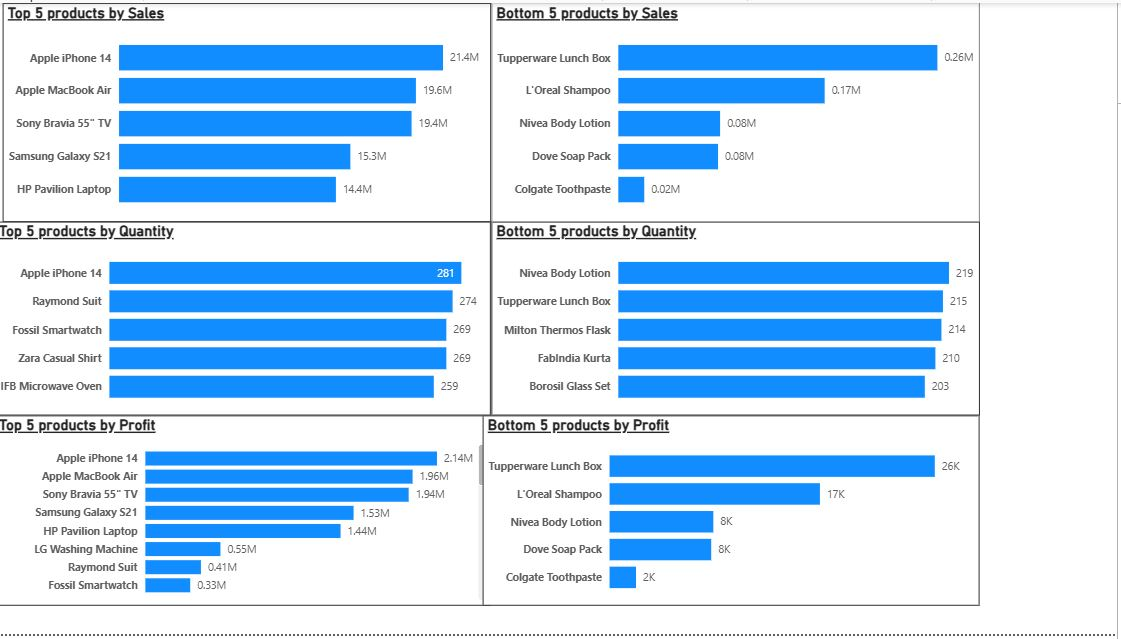

The page's visual inventory and layout, read from the dashboard file:
{"tool":"powerbi","page":{"name":"Top Bottom Analysis","canvas":[1280,720],"ordinal":1},"visuals":[{"type":"barChart","title":"Top 5 products by Sales","fields":{"Category":["Dim Product.Product Name"],"Y":["Sum(Fact Table.Net)"]},"box":[9.6,0,557.1,249.7],"z":0},{"type":"barChart","title":"Bottom 5 products by Sales","fields":{"Category":["Dim Product.Product Name"],"Y":["Sum(Fact Table.Net)"]},"box":[566.7,0,557.1,249.7],"z":1},{"type":"barChart","title":"Top 5 products by Profit","fields":{"Category":["Dim Product.Product Name"],"Y":["Sum(Fact Table.Profit)"]},"box":[0,470.7,566.7,216.8],"z":2},{"type":"barChart","title":"Bottom 5 products by Quantity","fields":{"Category":["Dim Product.Product Name"],"Y":["Sum(Fact Table.Units Sold)"]},"box":[566.7,249.7,557.1,220.9],"z":3},{"type":"barChart","title":"Top 5 products by Quantity","fields":{"Category":["Dim Product.Product Name"],"Y":["Sum(Fact Table.Units Sold)"]},"box":[0,249.7,566.7,220.9],"z":4},{"type":"barChart","title":"Bottom 5 products by Profit","fields":{"Category":["Dim Product.Product Name"],"Y":["Sum(Fact Table.Profit)"]},"box":[557.1,470.7,566.7,216.8],"z":5}]}

Visuals, with their boxes in screenshot pixels (x1, y1, x2, y2), scaled from the page's 1280x720 canvas onto the 1121x639 screenshot:
"Top 5 products by Sales" barChart: <box>8,0,496,222</box>
"Bottom 5 products by Sales" barChart: <box>496,0,984,222</box>
"Top 5 products by Profit" barChart: <box>0,418,496,610</box>
"Bottom 5 products by Quantity" barChart: <box>496,222,984,418</box>
"Top 5 products by Quantity" barChart: <box>0,222,496,418</box>
"Bottom 5 products by Profit" barChart: <box>488,418,984,610</box>
